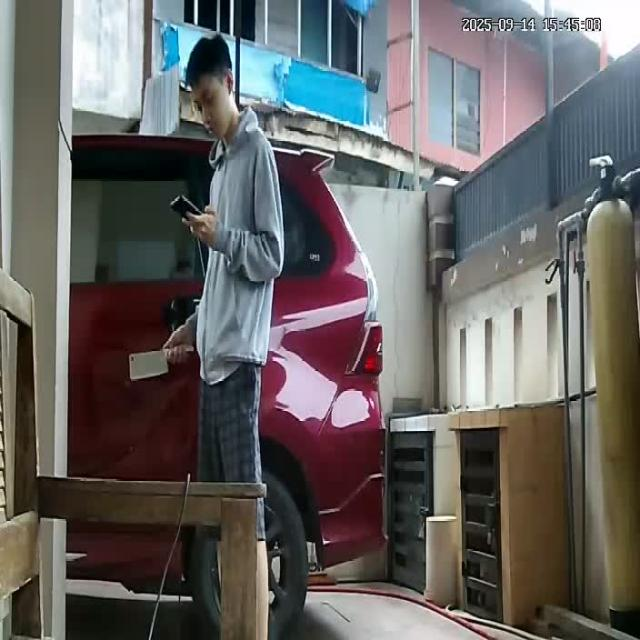senjata_tajam: (128, 348, 172, 384)
